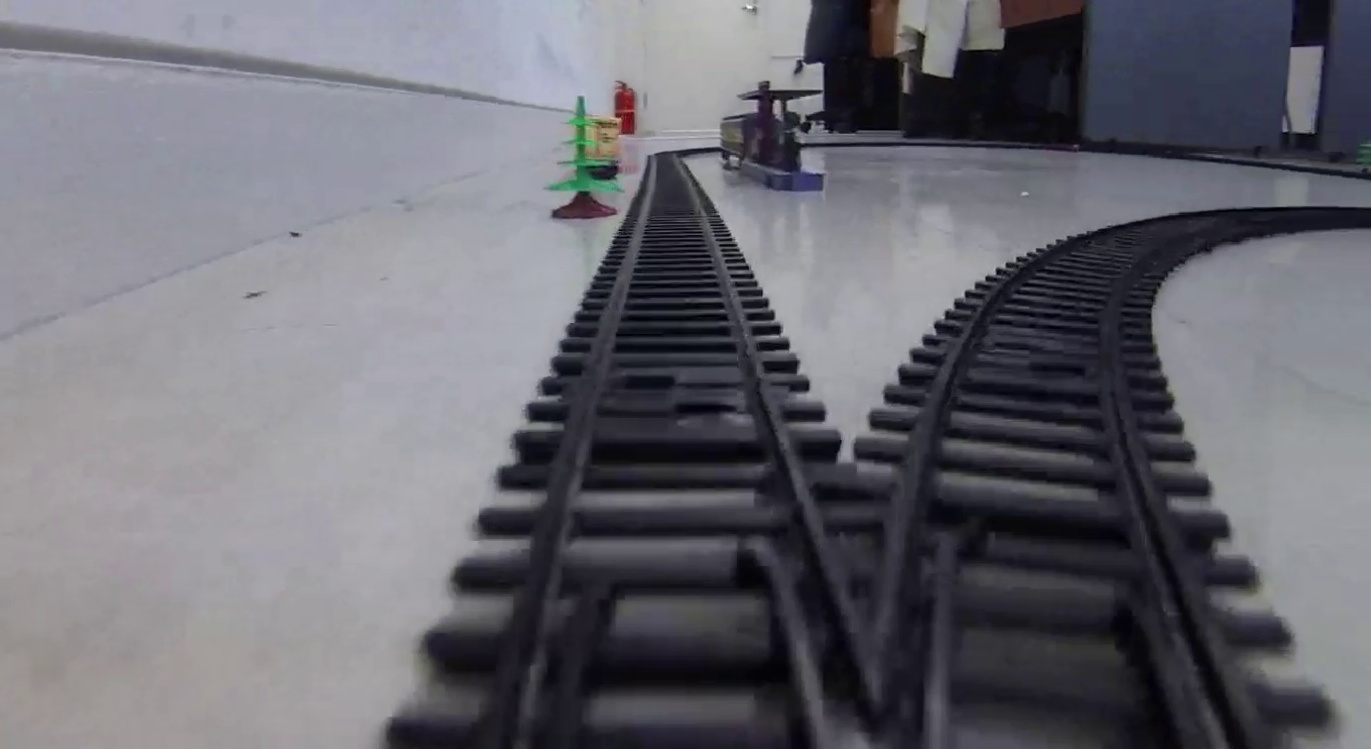tree: (543, 94, 624, 217)
